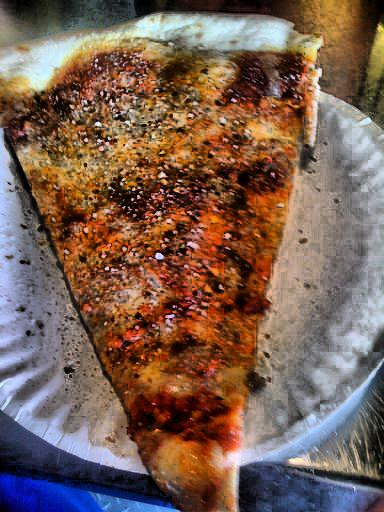pizza: (2, 30, 319, 512)
